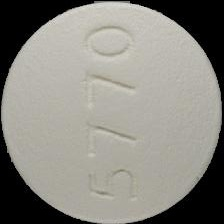0615-7672: (0, 0, 224, 224)
